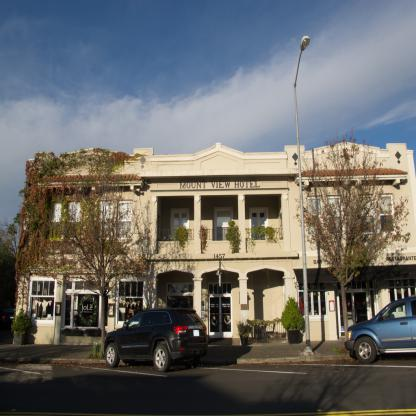Car: (104, 306, 210, 373), (344, 292, 416, 364)
